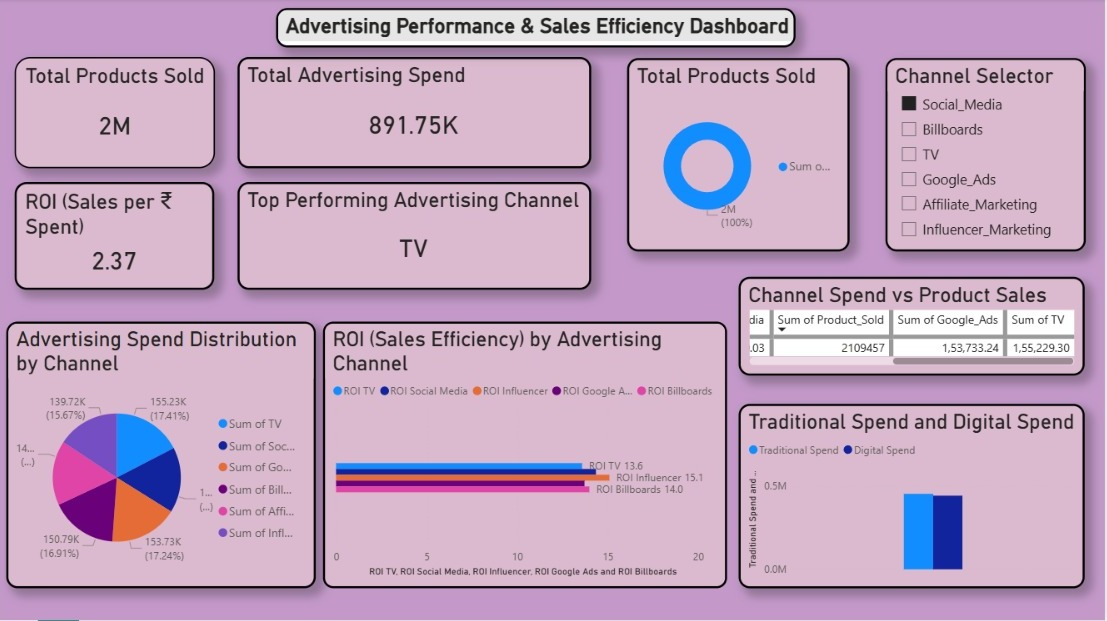

What the dashboard file says about the page in this screenshot:
{"tool":"powerbi","page":{"name":"Page 1","canvas":[1280,720],"ordinal":0},"visuals":[{"type":"card","title":"Total Products Sold","fields":{"Values":["Advertising_Data.Total Product Sold"]},"box":[18.4,68,232.3,128.9],"z":0},{"type":"card","title":"Total Advertising Spend","fields":{"Values":["Advertising_Data.Total Ad Spend"]},"box":[276.2,68,409.3,128.9],"z":1000},{"type":"card","title":"ROI (Sales per ₹ Spent)","fields":{"Values":["Advertising_Data.ROI (Sales Efficiency)"]},"box":[18.4,212.4,230.8,124.6],"z":2000},{"type":"card","title":"Top Performing Advertising Channel","fields":{"Values":["Advertising_Data.Best Performing Channel"]},"box":[276.2,212.4,409.3,124.6],"z":3000},{"type":"donutChart","title":"Total Products Sold","fields":{"Y":["Sum(Advertising_Data.Product_Sold)"]},"box":[727.9,68.3,257.3,224.3],"z":5000},{"type":"tableEx","title":"Channel Spend vs Product Sales","fields":{"Values":["Sum(Advertising_Data.Influencer_Marketing)","Sum(Advertising_Data.Social_Media)","Sum(Advertising_Data.Product_Sold)","Sum(Advertising_Data.Google_Ads)","Sum(Advertising_Data.TV)"]},"box":[857.2,321.9,401.1,114.6],"z":6000},{"type":"clusteredColumnChart","fields":{"Y":["Advertising_Data.Traditional Spend","Advertising_Data.Digital Spend"]},"box":[857.2,469.4,401.1,213.4],"z":7000},{"type":"pieChart","title":"Advertising Spend Distribution by Channel","fields":{"Y":["Sum(Advertising_Data.TV)","Sum(Advertising_Data.Social_Media)","Sum(Advertising_Data.Google_Ads)","Sum(Advertising_Data.Billboards)","Sum(Advertising_Data.Affiliate_Marketing)","Sum(Advertising_Data.Influencer_Marketing)"]},"box":[8.5,374.3,358.5,308.5],"z":8000},{"type":"textbox","title":"Advertising Performance & Sales Efficiency Dashboard","box":[321.5,11.3,601.9,45.3],"z":9000},{"type":"clusteredBarChart","title":"ROI (Sales Efficiency) by Advertising Channel","fields":{"Y":["Advertising_Data.ROI TV","Advertising_Data.ROI Social Media","Advertising_Data.ROI Influencer","Advertising_Data.ROI Google Ads","Advertising_Data.ROI Billboards"]},"box":[375.5,374.3,468.2,308.5],"z":9001},{"type":"slicer","title":"Channel Selector","fields":{"Values":["Channel Selector 2.Channel Selector"]},"box":[1026.6,68.3,231.7,224.3],"z":9002}]}

Visuals, with their boxes in screenshot pixels (x1, y1, x2, y2), scaled from the page's 1280x720 canvas onto the 1107x621 screenshot:
"Total Products Sold" card: [x1=16, y1=59, x2=217, y2=170]
"Total Advertising Spend" card: [x1=239, y1=59, x2=593, y2=170]
"ROI (Sales per ₹ Spent)" card: [x1=16, y1=183, x2=216, y2=291]
"Top Performing Advertising Channel" card: [x1=239, y1=183, x2=593, y2=291]
"Total Products Sold" donutChart: [x1=630, y1=59, x2=852, y2=252]
"Channel Spend vs Product Sales" tableEx: [x1=741, y1=278, x2=1088, y2=376]
clusteredColumnChart - Advertising_Data.Traditional Spend x Advertising_Data.Digital Spend: [x1=741, y1=405, x2=1088, y2=589]
"Advertising Spend Distribution by Channel" pieChart: [x1=7, y1=323, x2=317, y2=589]
"Advertising Performance & Sales Efficiency Dashboard" textbox: [x1=278, y1=10, x2=799, y2=49]
"ROI (Sales Efficiency) by Advertising Channel" clusteredBarChart: [x1=325, y1=323, x2=730, y2=589]
"Channel Selector" slicer: [x1=888, y1=59, x2=1088, y2=252]
